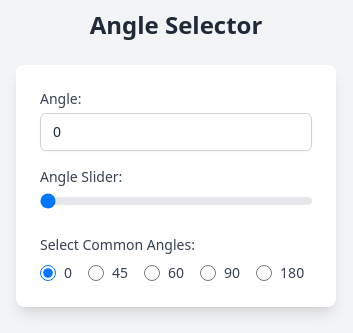
Test case: AngleSelector Component › updates angle on radio button change
This screenshot has width=353, height=333.
Click the radio button labelled "90" at (208, 273), box [200,265,216,281]
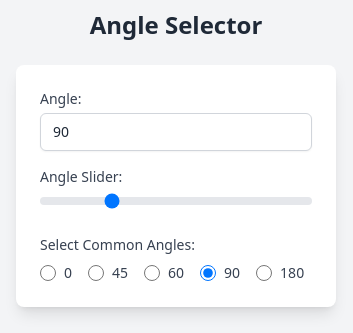
Now the number field labelled "Angle:" holds "90", box [40,113,312,151]
Now the slider labelled "Angle Slider:" holds "90", box [40,197,312,205]
